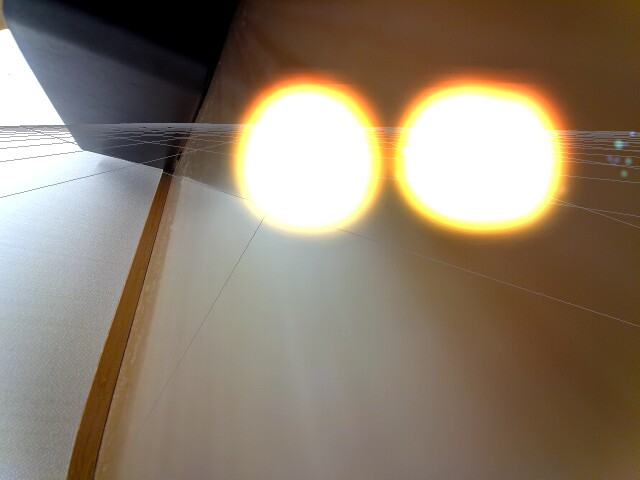firebig: (393, 81, 576, 235)
